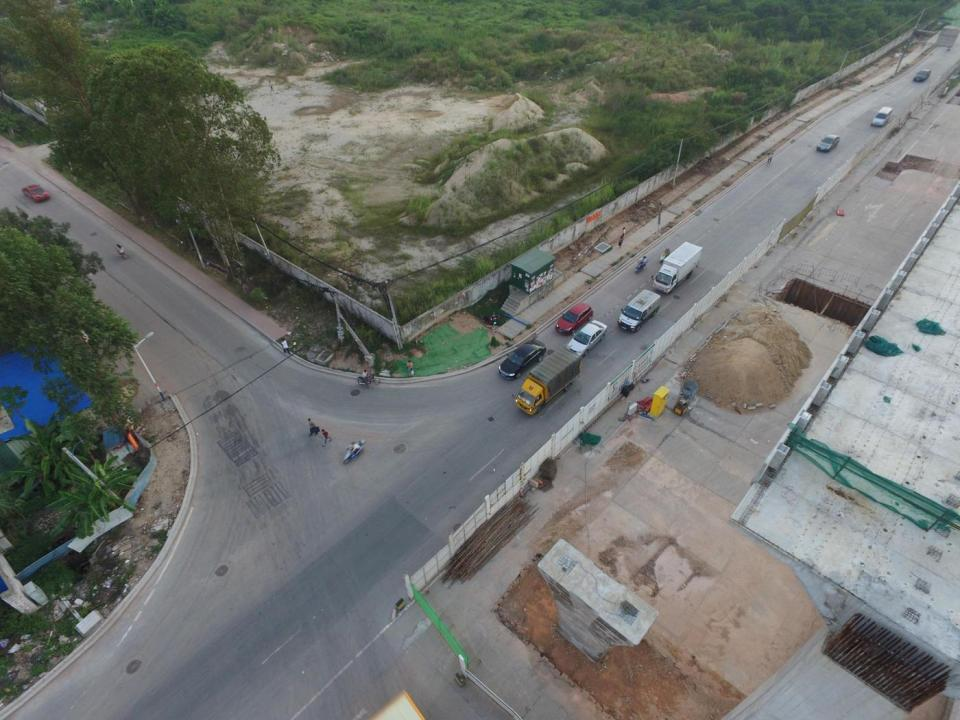car: (569, 319, 606, 356), (556, 302, 593, 335), (21, 184, 48, 202), (816, 134, 840, 153), (915, 69, 931, 82)
truck: (518, 347, 582, 414), (652, 243, 702, 292)
van: (618, 288, 663, 332), (496, 342, 546, 377), (871, 106, 893, 127)
